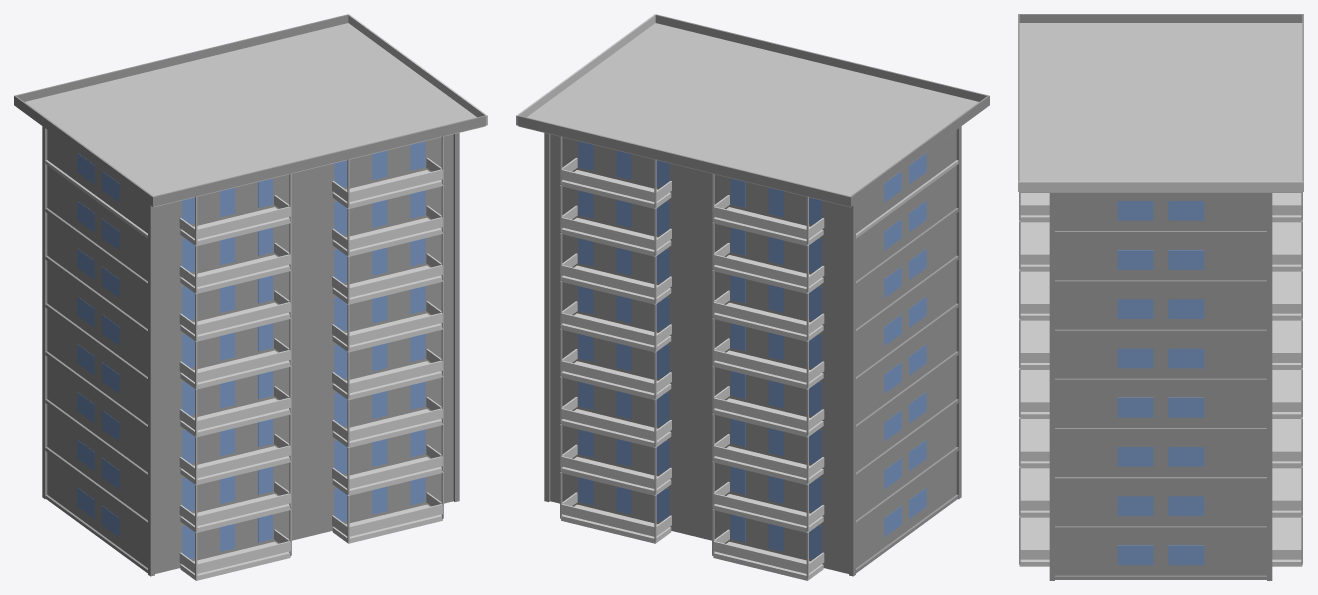
Rendered from apartment.fbx.
3 renders of one model, left to right at view 1: azimuth 30°, elevation 25°; view 2: azimuth 150°, elevation 25°; view 3: azimuth 270°, elevation 25°, orthographic. The views are drawn at different scales.
Parts seen in each view (by area): view 1: Building_Body, pCube341, pCube342, pCube343, pCube2, pCube1, pCube4, pCube344, pCube345, pCube323, pCube299, pCube203 (+37 smaller); view 2: Building_Body, pCube341, pCube343, pCube342, pCube4, pCube3, pCube2, pCube344, pCube345, pCube335, pCube311, pCube215 (+37 smaller); view 3: Building_Body, pCube341, pCube345, pCube344, pCube1, pCube3, pCube155, pCube167, pCube203, pCube215, pCube299, pCube311 (+34 smaller).
Part boxes in pixels (bbox=[...]): Building_Body: bbox=[47, 130, 453, 573]; pCube341: bbox=[21, 23, 485, 207]; pCube342: bbox=[154, 115, 486, 206]; pCube343: bbox=[16, 14, 348, 101]; pCube2: bbox=[148, 203, 154, 576]; pCube1: bbox=[453, 133, 459, 501]; pCube4: bbox=[42, 126, 47, 499]; pCube344: bbox=[14, 95, 154, 206]; pCube345: bbox=[348, 14, 487, 125]; pCube323: bbox=[332, 170, 442, 208]; pCube299: bbox=[332, 217, 442, 256]; pCube203: bbox=[332, 409, 442, 447]; Building_Body: bbox=[550, 130, 956, 573]; pCube341: bbox=[518, 23, 982, 207]; pCube343: bbox=[517, 115, 849, 206]; pCube342: bbox=[655, 14, 987, 101]; pCube4: bbox=[849, 203, 855, 576]; pCube3: bbox=[544, 133, 550, 501]; pCube2: bbox=[956, 126, 961, 499]; pCube344: bbox=[849, 95, 989, 206]; pCube345: bbox=[516, 14, 655, 125]; pCube335: bbox=[561, 170, 671, 208]; pCube311: bbox=[561, 217, 671, 256]; pCube215: bbox=[561, 409, 671, 447]; Building_Body: bbox=[1055, 193, 1266, 575]; pCube341: bbox=[1019, 23, 1302, 192]; pCube345: bbox=[1018, 181, 1303, 191]; pCube344: bbox=[1018, 14, 1303, 22]; pCube1: bbox=[1049, 193, 1054, 580]; pCube3: bbox=[1267, 193, 1272, 580]; pCube155: bbox=[1019, 517, 1049, 566]; pCube167: bbox=[1272, 517, 1302, 566]; pCube203: bbox=[1019, 419, 1049, 468]; pCube215: bbox=[1272, 419, 1302, 468]; pCube299: bbox=[1019, 222, 1049, 271]; pCube311: bbox=[1272, 222, 1302, 271].
Bounding box in the file's own units: 880 × 992 × 632.
